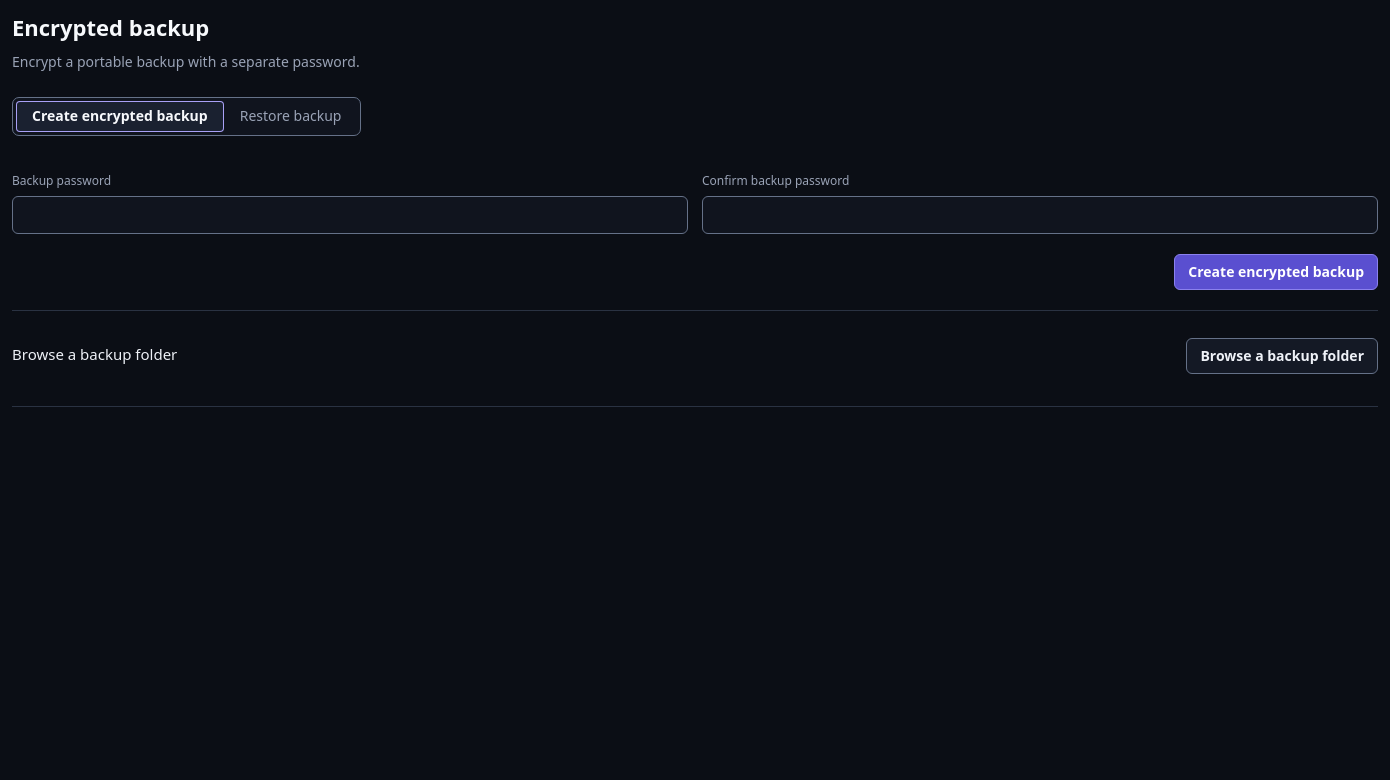
Scenario: backup restore review › clears the old review when replacing the preview fails
The image size is (1390, 780).
Click the button "Restore backup" at (291, 116), box [224,101,358,132]
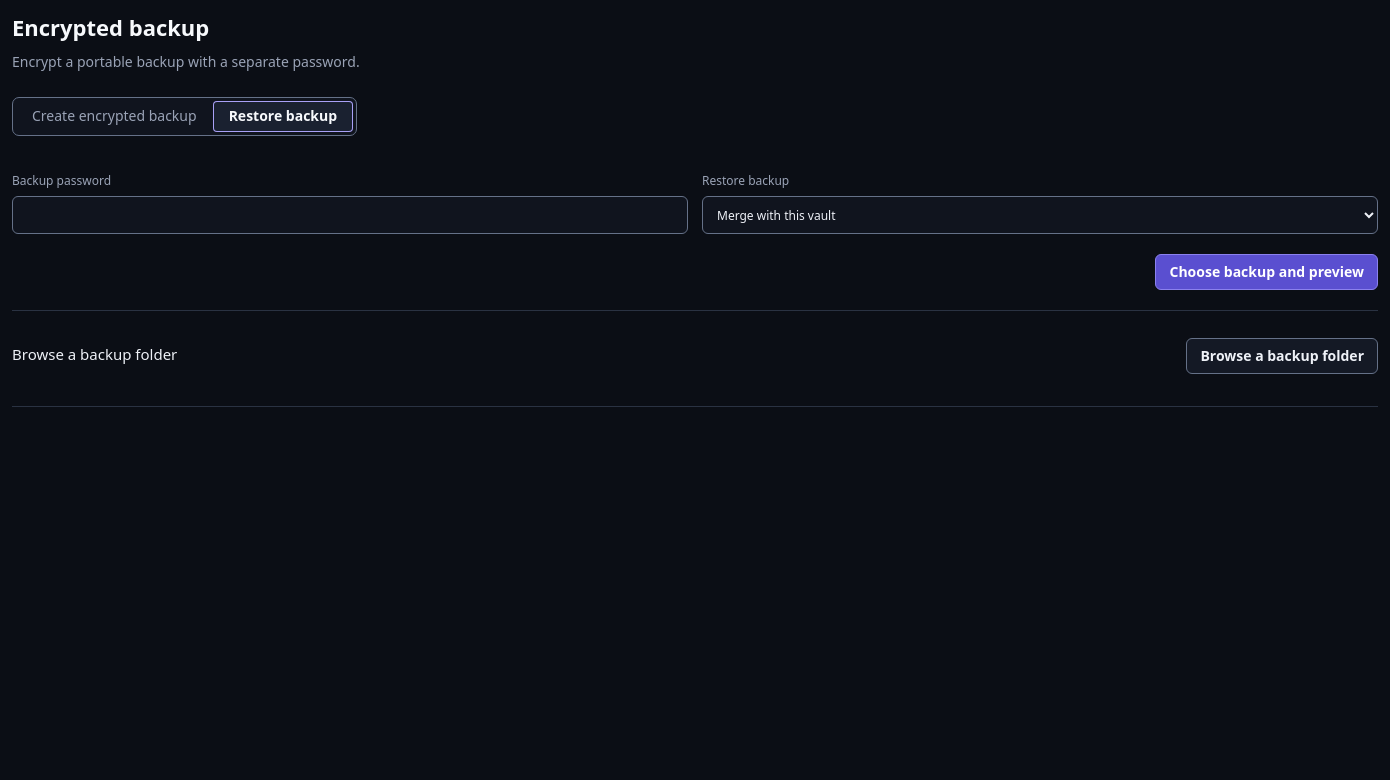
Select "Replace this vault" in the dropdown at (1040, 215), box [702,196,1378,234]
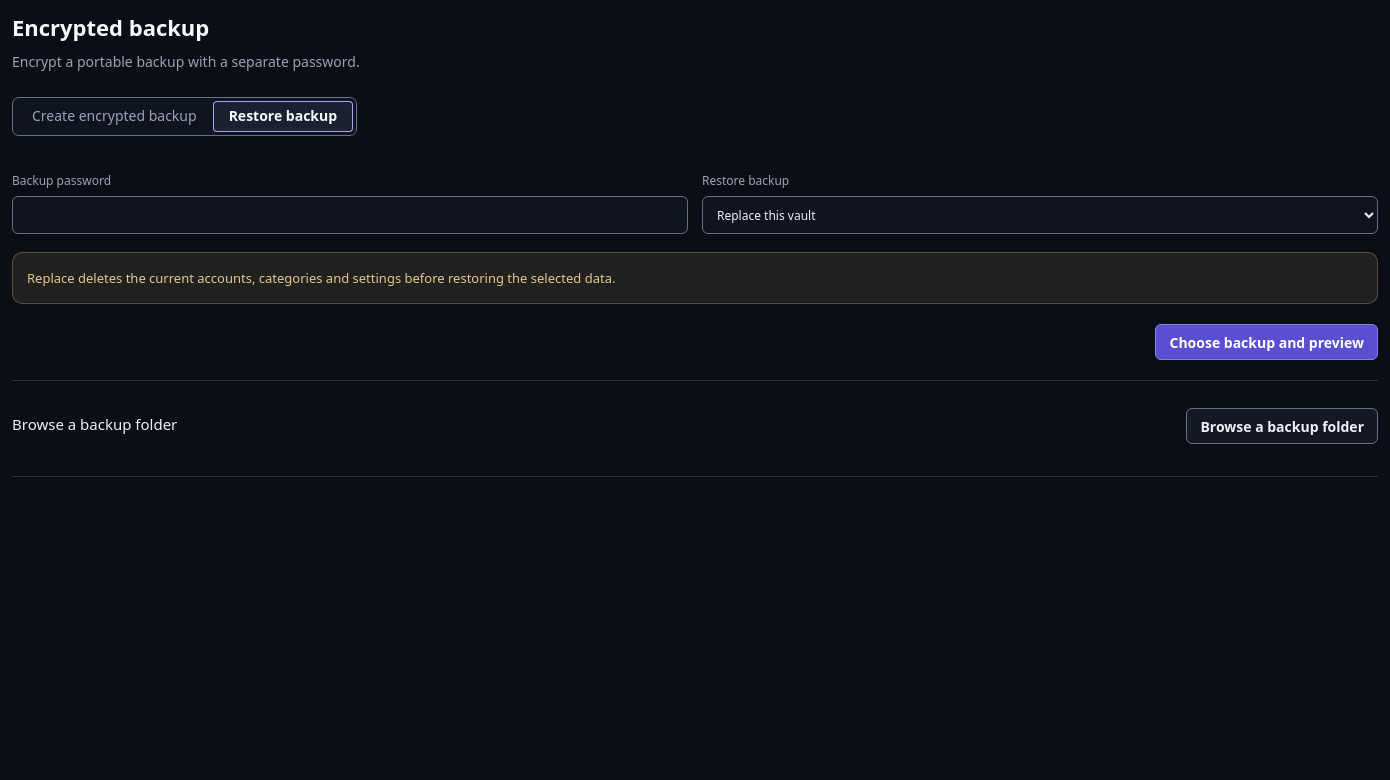
Type "synthetic-backup-password" into the password field labelled "Backup password" at (350, 215), box [12,196,688,234]
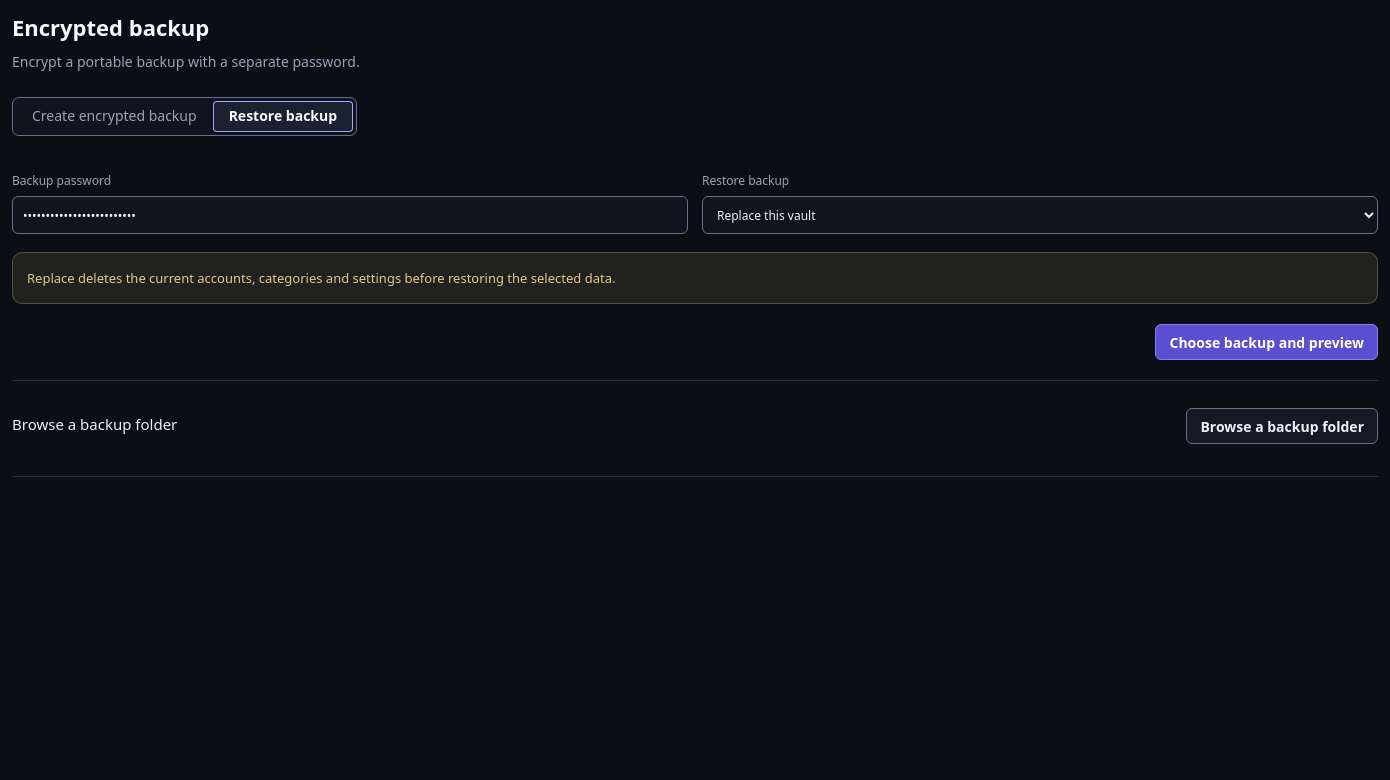
Click the button "Choose backup and preview" at (1267, 342), box [1156,324,1378,360]
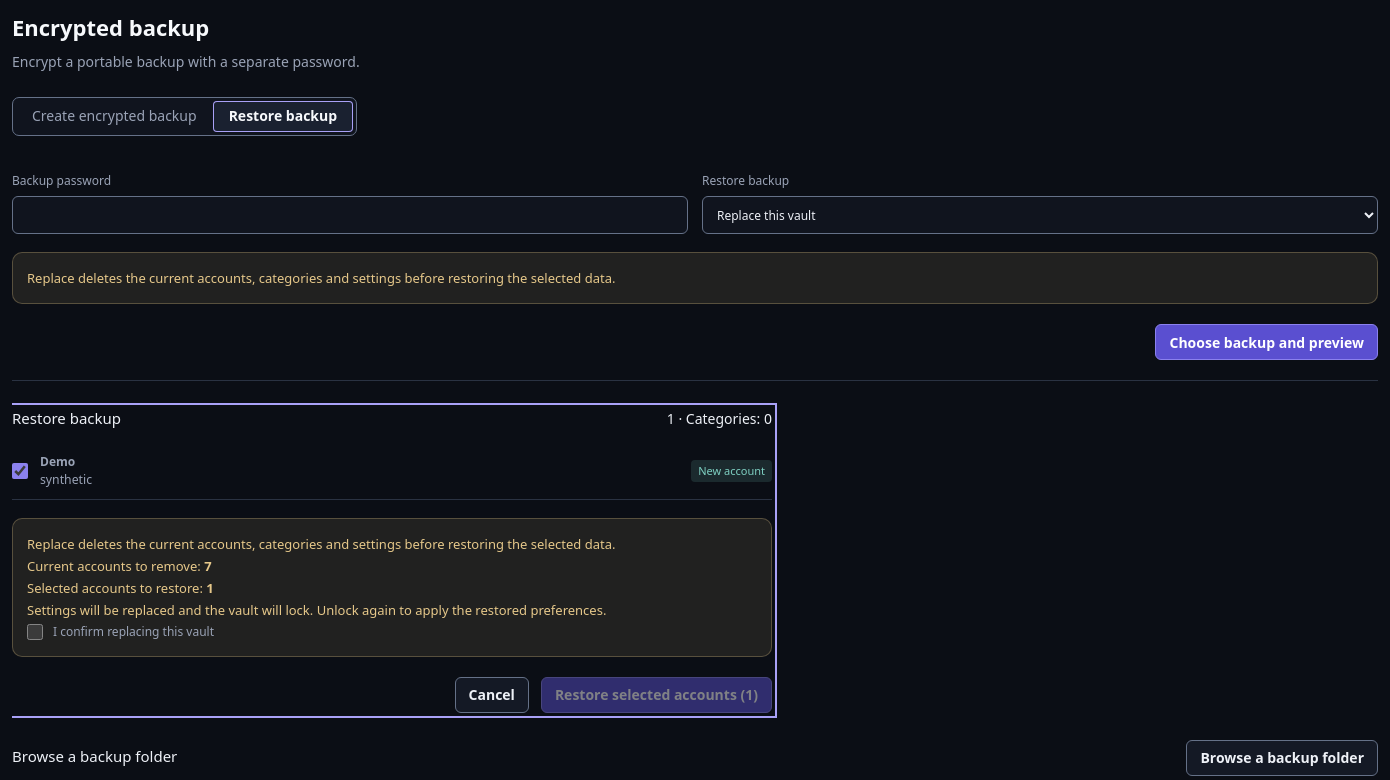
Now the text "synthetic" is shown, box [40,471,92,488]
Type "synthetic-backup-password" into the password field labelled "Backup password" at (350, 215), box [12,196,688,234]
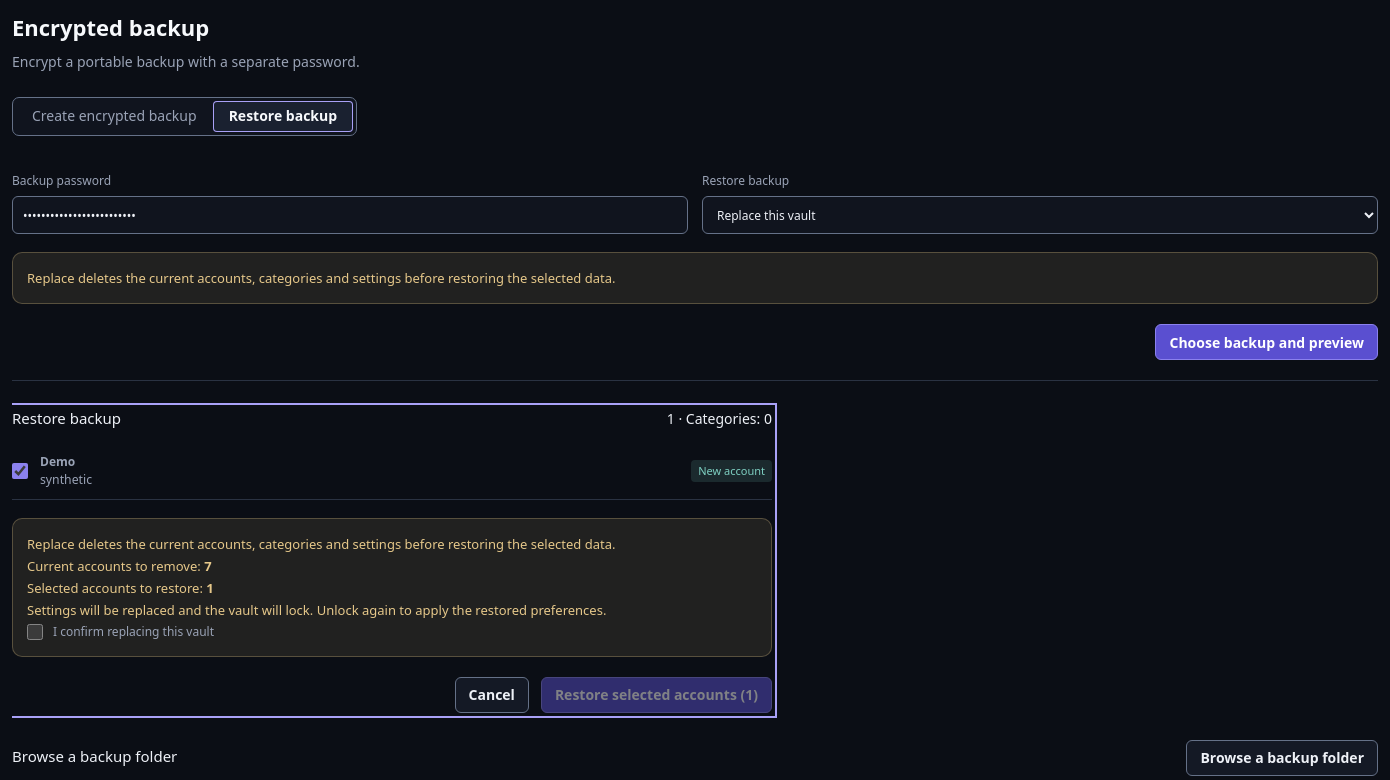
Click the button "Choose backup and preview" at (1267, 342), box [1156,324,1378,360]
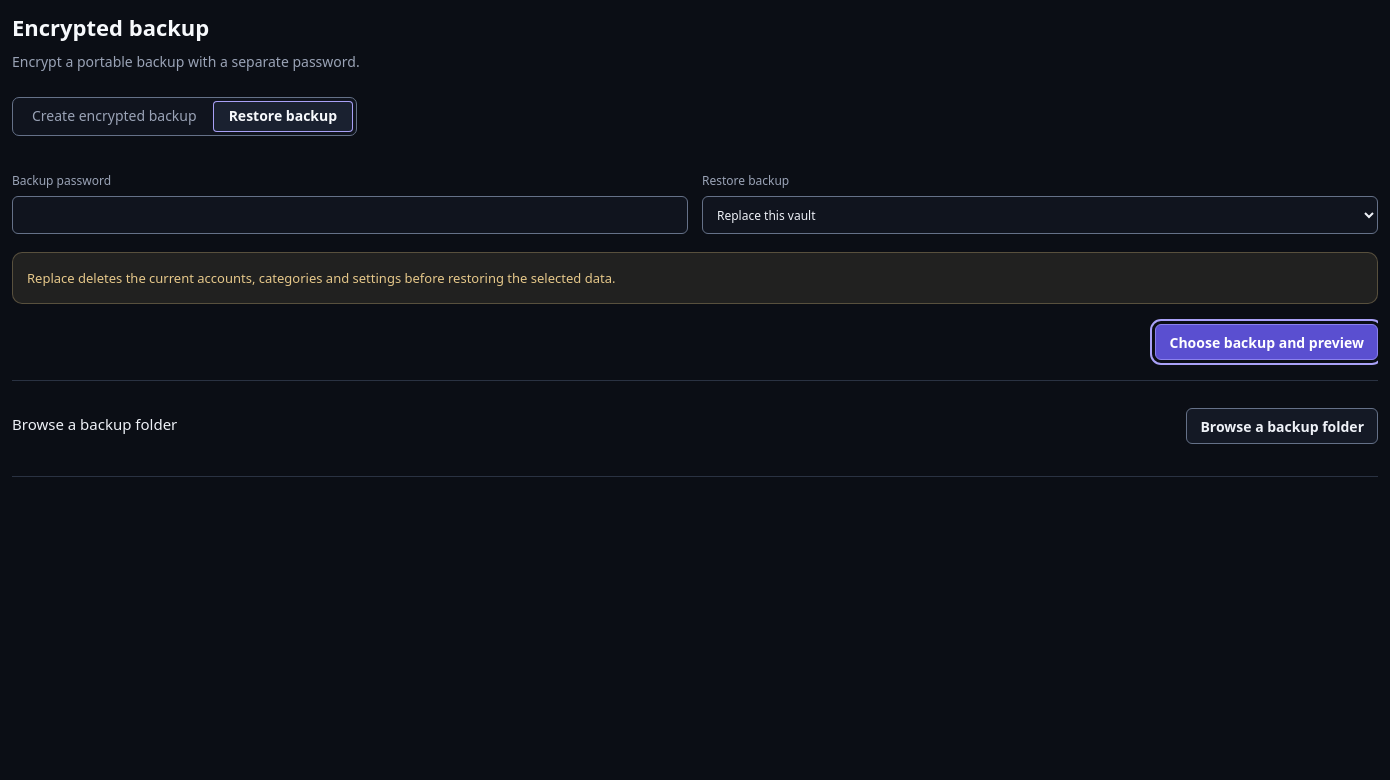
Now the text "synthetic" is gone
